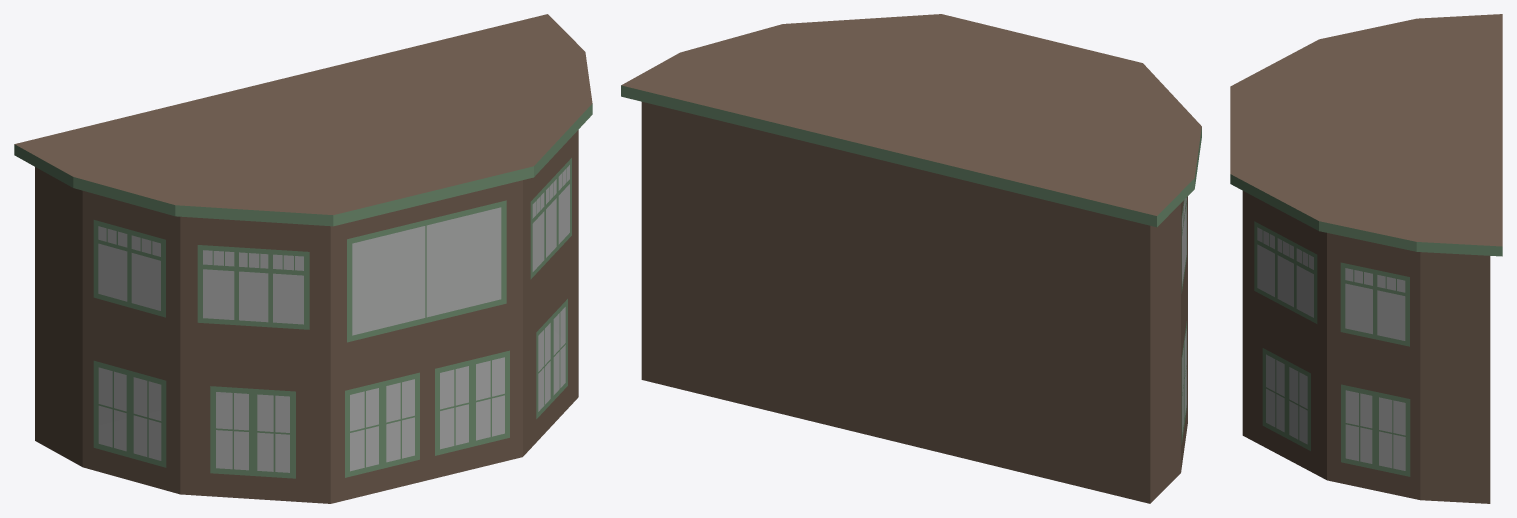
File: DiningRoom.glb
The picture shows the model from 3 angles, left to right: view 1: azimuth 30°, elevation 25°; view 2: azimuth 150°, elevation 25°; view 3: azimuth 270°, elevation 25°; orthographic projection. The views are drawn at different scales.
Parts seen in each view (by area): view 1: Mesh1 Dining1 Model; view 2: Mesh1 Dining1 Model; view 3: Mesh1 Dining1 Model.
Boxes of the visible parts, x1,y1,x2,y2 form: Mesh1 Dining1 Model: (14, 14, 592, 503); Mesh1 Dining1 Model: (621, 14, 1201, 503); Mesh1 Dining1 Model: (1230, 14, 1502, 503).
Bounding box in the file's own units: 78.03 × 41.22 × 38.65.
